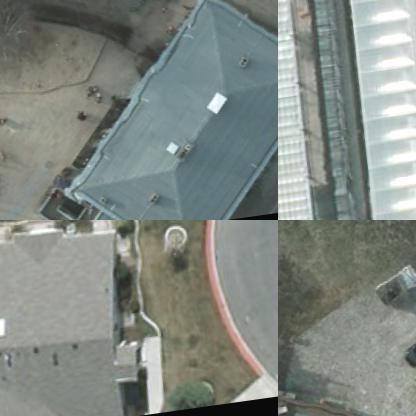car: (399, 327, 415, 372)
